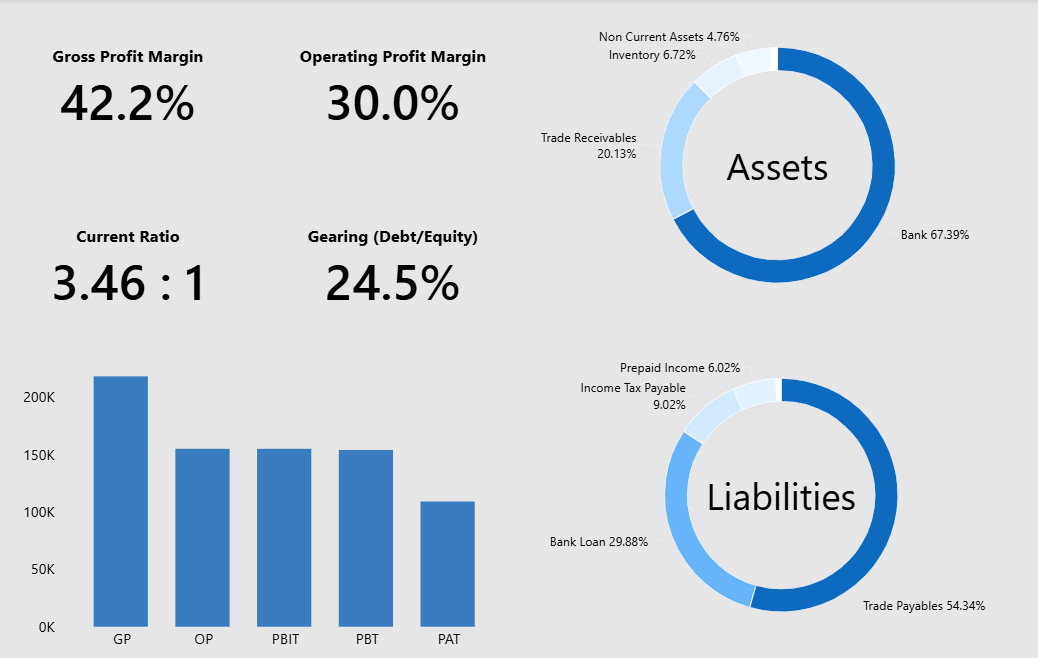

The dashboard page shown, as its layout file describes it:
{"tool":"powerbi","page":{"name":"Financial Position","canvas":[1698,1080],"ordinal":1},"visuals":[{"type":"shape","box":[27.5,182.5,417.5,272.5],"z":0},{"type":"shape","box":[470,182.5,460,272.5],"z":1000},{"type":"shape","box":[943.4,186.2,350,271.7],"z":2000},{"type":"shape","box":[1308.4,187,365,271.7],"z":3000},{"type":"cardVisual","fields":{"Data":["Median(All Ratios.Gearing Ratio (debt/equity))","Min(All Ratios.Interest Cover)"]},"box":[25,180,902.5,272.5],"z":4000},{"type":"cardVisual","fields":{"Data":["Min(All Ratios.Current Ratio)","Min(All Ratios.Quick (Acid Test) Ratio)"]},"box":[942.5,182.5,730,273.3],"z":5000},{"type":"shape","box":[955,480,730,582.5],"z":6000},{"type":"shape","box":[27.5,480,902.5,582.5],"z":7000},{"type":"donutChart","fields":{"Category":["Liabilities.Liability Type"],"Y":["Median(Liabilities.Value)"]},"box":[955,510,742.5,552.5],"z":8000},{"type":"donutChart","fields":{"Category":["Assets.Asset Type"],"Y":["Sum(Assets.Value)"]},"box":[0,510,955,552.5],"z":9000},{"type":"textbox","box":[445,42.5,807.5,97.5],"z":10000}]}

Visuals, with their boxes in screenshot pixels (x1, y1, x2, y2), scaled from the page's 1698x1080 canvas onto the 1038x658 screenshot:
shape: [left=17, top=111, right=272, bottom=277]
shape: [left=287, top=111, right=569, bottom=277]
shape: [left=577, top=113, right=791, bottom=279]
shape: [left=800, top=114, right=1023, bottom=279]
cardVisual - Median(All Ratios.Gearing Ratio (debt/equity)) x Min(All Ratios.Interest Cover): [left=15, top=110, right=567, bottom=276]
cardVisual - Min(All Ratios.Current Ratio) x Min(All Ratios.Quick (Acid Test) Ratio): [left=576, top=111, right=1022, bottom=278]
shape: [left=584, top=292, right=1030, bottom=647]
shape: [left=17, top=292, right=569, bottom=647]
donutChart - Liabilities.Liability Type x Median(Liabilities.Value): [left=584, top=311, right=1037, bottom=647]
donutChart - Assets.Asset Type x Sum(Assets.Value): [left=0, top=311, right=584, bottom=647]
textbox: [left=272, top=26, right=766, bottom=85]
